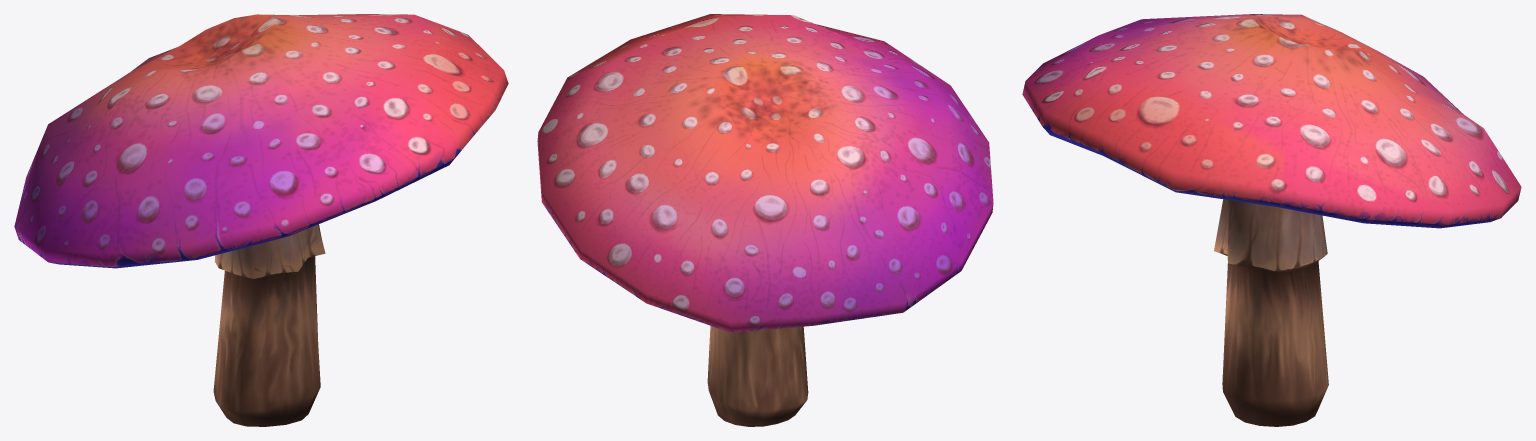
File: mushroom.glb
The picture shows the model from 3 angles, left to right: view 1: azimuth 30°, elevation 25°; view 2: azimuth 150°, elevation 25°; view 3: azimuth 270°, elevation 25°; orthographic projection. The views are drawn at different scales.
Parts seen in each view (by area): view 1: mushroom; view 2: mushroom; view 3: mushroom.
Boxes of the visible parts, <box> form: mushroom: <box>14,14,508,426</box>; mushroom: <box>537,14,993,426</box>; mushroom: <box>1022,14,1521,426</box>.
Size of the model in its own units: 4.11 by 3.47 by 4.12.
1 material, 1 textured.
